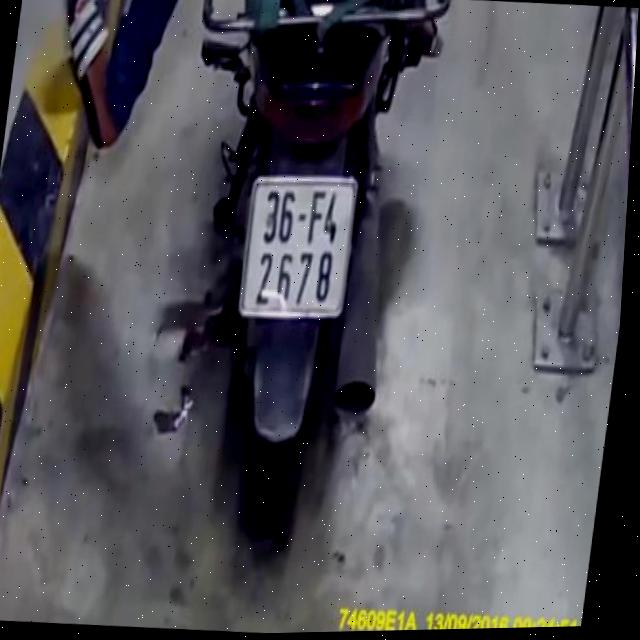motorcycle: (136, 0, 452, 548)
plate: (232, 167, 367, 326)
